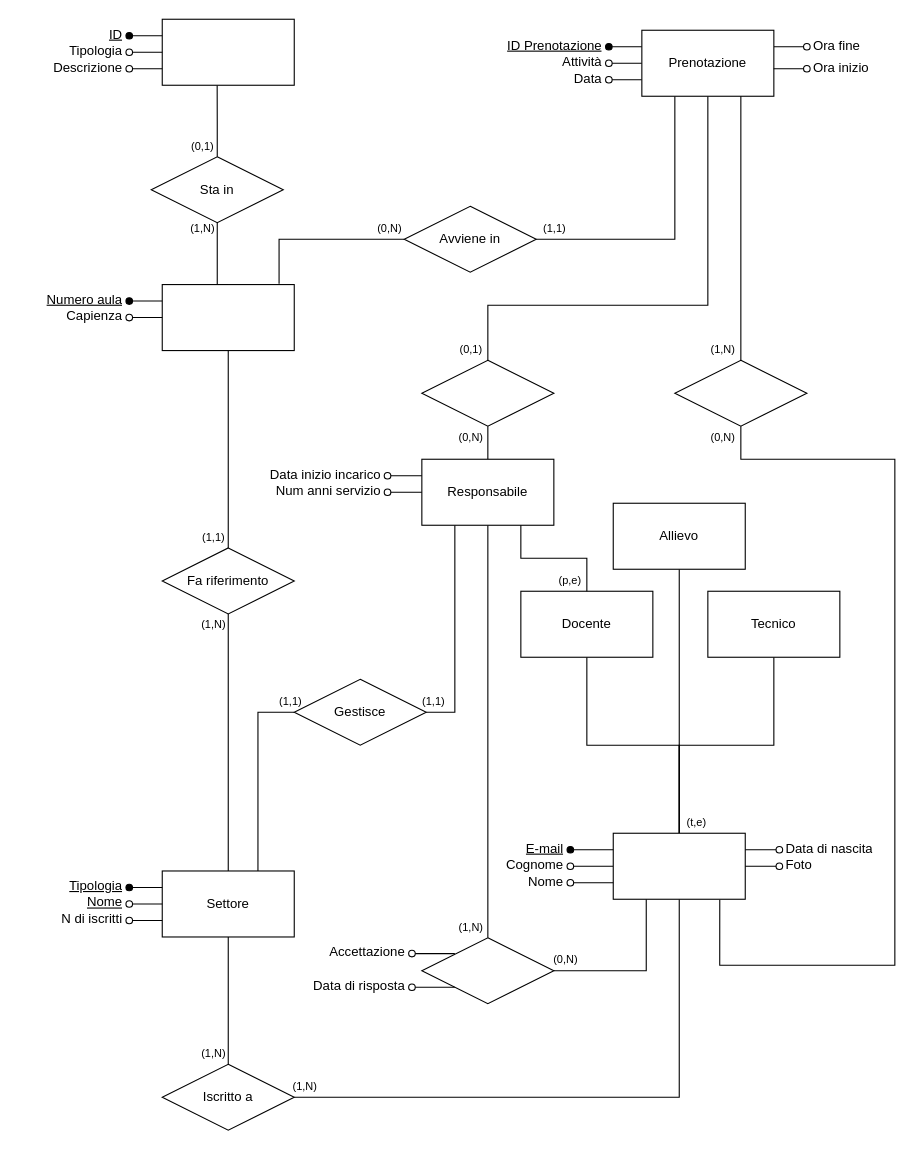
The diagram is 915 pixels wide and 1150 high, and some of its shapes have lost their labels. The centre of each missing label's shape, as x and y in pixels:
"Invita" goes at point 487,970.
"Iscritto" goes at point 678,865.
"Partecipa a" goes at point 740,392.
"Prenota" goes at point 487,392.
"Sala prove" goes at point 227,317.
"Strumentazione" goes at point 227,51.
